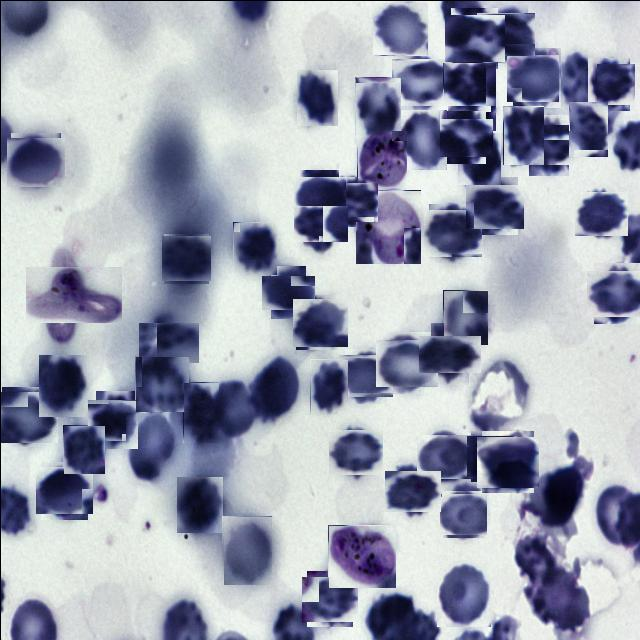red blood cell: (436, 562, 490, 626), (222, 515, 272, 584), (250, 355, 300, 423), (478, 432, 536, 490), (125, 412, 172, 481), (0, 387, 55, 444), (379, 334, 434, 390), (394, 54, 448, 110), (134, 355, 188, 411), (38, 354, 86, 416), (209, 378, 257, 440), (372, 0, 427, 54), (446, 10, 501, 64), (398, 108, 446, 169), (509, 50, 563, 104), (8, 134, 62, 188), (425, 206, 478, 259), (37, 464, 90, 516), (589, 265, 640, 319), (468, 180, 520, 232), (294, 296, 346, 348), (354, 76, 400, 134), (522, 119, 574, 170), (142, 317, 194, 368), (304, 572, 354, 624), (419, 431, 470, 481), (480, 8, 531, 58), (176, 477, 222, 532), (330, 426, 380, 476), (92, 394, 142, 444), (424, 328, 474, 378), (442, 289, 487, 344), (502, 105, 543, 164), (576, 188, 624, 238), (388, 466, 437, 514), (584, 59, 632, 108), (444, 60, 493, 108), (232, 221, 276, 274), (558, 52, 596, 113), (564, 104, 612, 152), (296, 69, 337, 125), (341, 352, 389, 399), (162, 234, 209, 282), (457, 132, 500, 184), (182, 381, 218, 442), (297, 200, 343, 247), (309, 358, 347, 414), (442, 114, 488, 160), (296, 172, 342, 218), (468, 432, 514, 478), (62, 424, 104, 473), (330, 178, 374, 224), (441, 492, 485, 536), (266, 270, 310, 314), (457, 83, 495, 130)
trophozoite: (36, 256, 111, 332), (354, 189, 420, 263), (327, 524, 395, 587), (356, 129, 406, 186)
